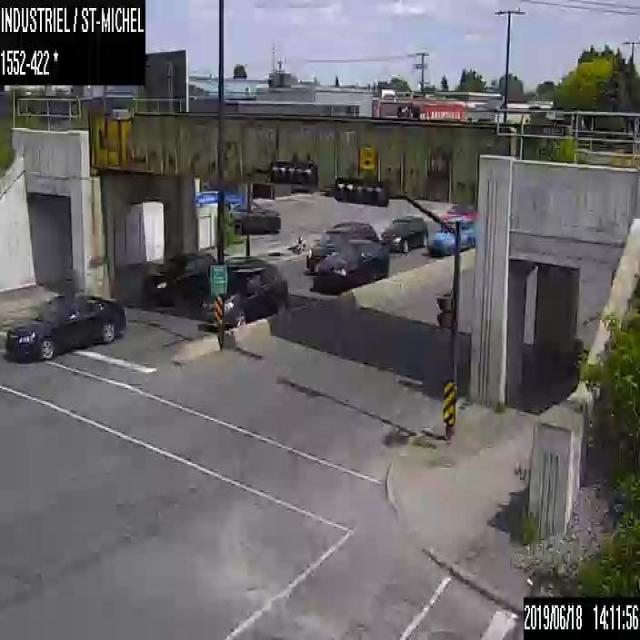vehicle: (5, 291, 126, 360), (198, 255, 288, 323), (144, 249, 216, 305), (315, 238, 388, 290), (306, 221, 378, 273), (428, 213, 474, 257), (228, 199, 280, 234), (380, 215, 427, 252), (194, 188, 244, 206)
